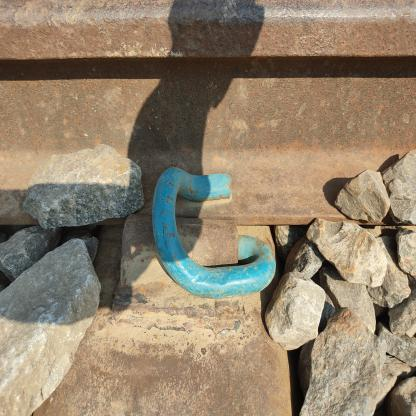Non Defective: (106, 87, 314, 328)
